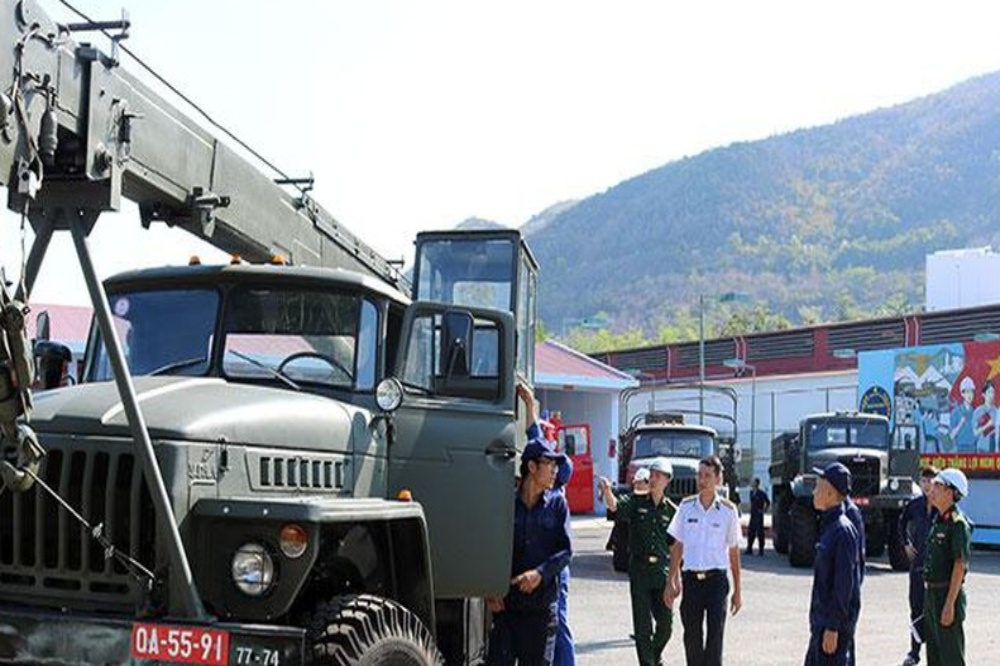plate: (131, 620, 232, 666)
